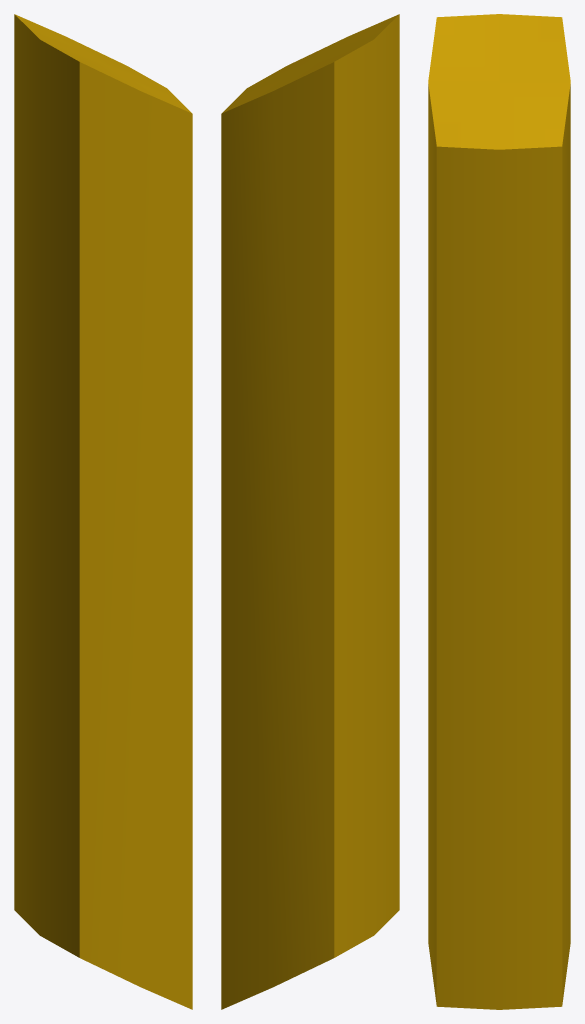
Rendered from bullet.fbx.
3 renders of one model, left to right at view 1: azimuth 30°, elevation 25°; view 2: azimuth 150°, elevation 25°; view 3: azimuth 270°, elevation 25°, orthographic. The views are drawn at different scales.
Visible parts, largest first — view 1: Box001; view 2: Box001; view 3: Box001.
Boxes of the visible parts, x1,y1,x2,y2 form: Box001: [14, 14, 192, 1009]; Box001: [221, 14, 399, 1009]; Box001: [428, 14, 570, 1009].
Bounding box in the file's own units: 22.43 × 165 × 22.74.
